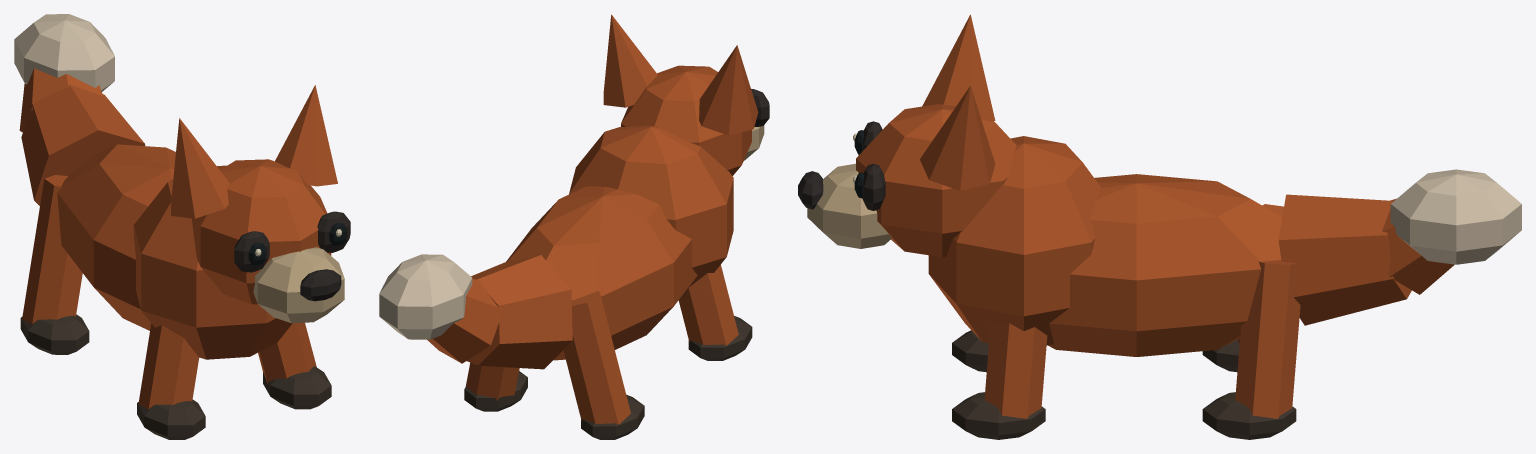
Rendered from fauna-ember_fox.glb.
3 views of the same model, side by side, from view 1: azimuth 30°, elevation 25°; view 2: azimuth 150°, elevation 25°; view 3: azimuth 270°, elevation 25° (orthographic). The views are drawn at different scales.
Visible parts, largest first — view 1: Fauna_ember_fox; view 2: Fauna_ember_fox; view 3: Fauna_ember_fox.
Boxes of the visible parts, x1,y1,x2,y2 form: Fauna_ember_fox: (14,14,350,439); Fauna_ember_fox: (379,14,769,439); Fauna_ember_fox: (798,14,1521,439).
Bounding box in the file's own units: 0.7132 × 1.24 × 2.31.
